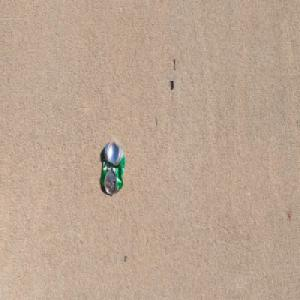SodaCan: (100, 140, 126, 196)
